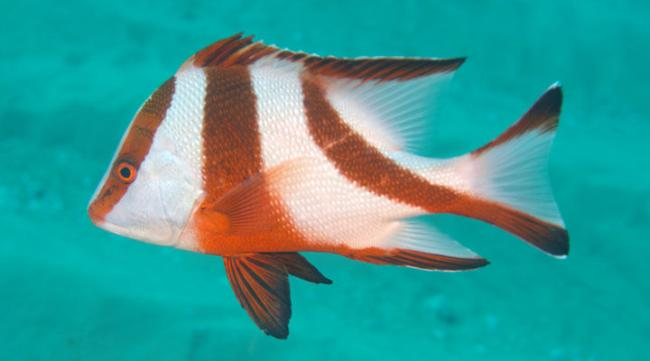fish: (88, 31, 572, 341)
